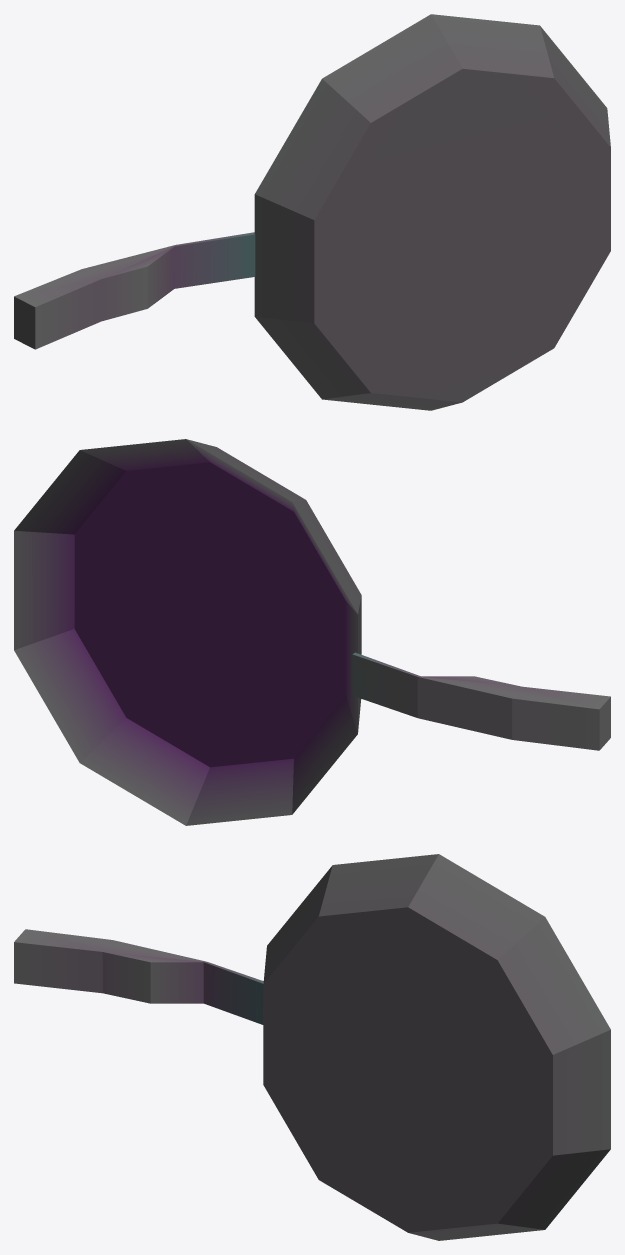
The picture shows the model from 3 angles, top to bottom: view 1: azimuth 30°, elevation 25°; view 2: azimuth 150°, elevation 25°; view 3: azimuth 330°, elevation 25°; orthographic projection. The views are drawn at different scales.
Visible parts, largest first — view 1: bowl, handle; view 2: bowl, handle; view 3: bowl, handle.
Part boxes in pixels (x1,y1,x2,y2): bowl: (254,14,610,410); handle: (14,232,255,349); bowl: (14,439,361,825); handle: (352,652,610,750); bowl: (263,854,610,1240); handle: (14,929,263,1024).
Bounding box in the file's own units: 0.2505 × 0.1591 × 0.0295.
